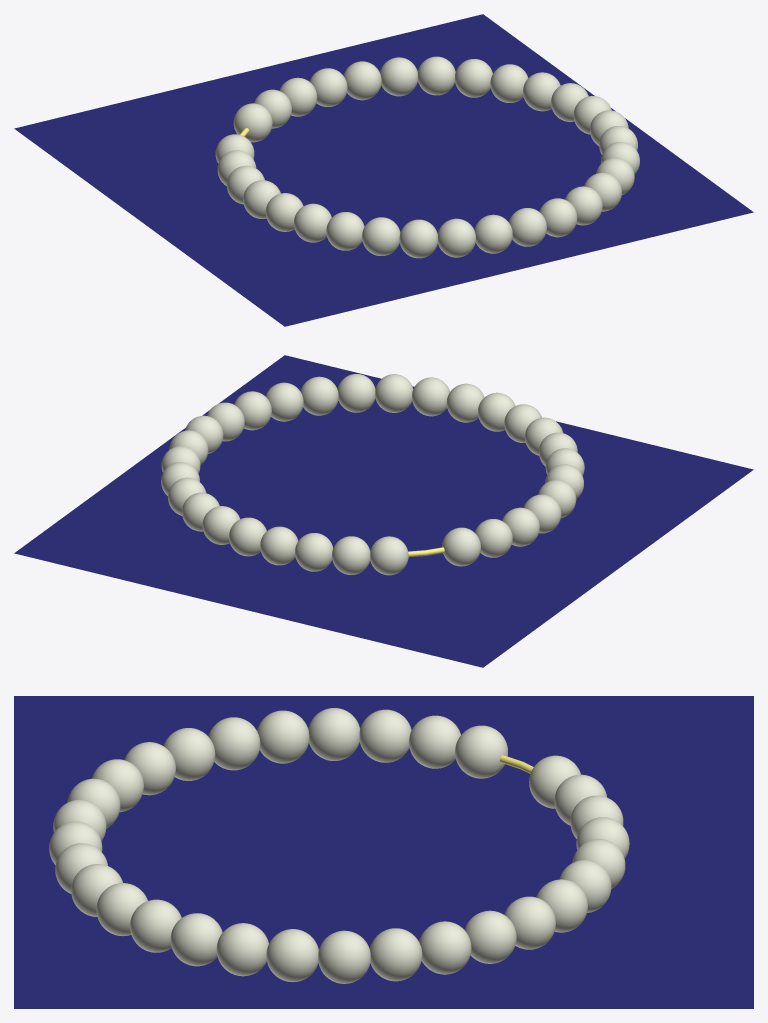
The model's file is colar.glb.
3 views of the same model, one above another, from view 1: azimuth 30°, elevation 25°; view 2: azimuth 150°, elevation 25°; view 3: azimuth 270°, elevation 25° (orthographic). The views are drawn at different scales.
Visible parts, largest first — view 1: Plane, Icosphere.018, Icosphere.019, Icosphere.017, Icosphere.002, Icosphere.020, Icosphere.003, Icosphere.016, Icosphere.001, Icosphere.004, Icosphere.021, Icosphere.032 (+20 smaller); view 2: Plane, Icosphere.008, Icosphere.007, Icosphere.010, Icosphere.024, Icosphere.006, Icosphere.023, Icosphere.025, Icosphere.005, Icosphere.022, Icosphere.026, Icosphere.011 (+20 smaller); view 3: Plane, Icosphere.029, Icosphere.028, Icosphere.030, Icosphere.013, Icosphere.012, Icosphere.027, Icosphere.031, Icosphere.010, Icosphere.014, Icosphere.026, Icosphere.011 (+20 smaller).
Part boxes in pixels (left/top/right/bottom): Plane: left=14, top=14, right=753, bottom=326; Icosphere.018: left=399, top=219, right=437, bottom=258; Icosphere.019: left=437, top=218, right=475, bottom=257; Icosphere.017: left=362, top=217, right=400, bottom=255; Icosphere.002: left=417, top=56, right=455, bottom=95; Icosphere.020: left=474, top=214, right=512, bottom=253; Icosphere.003: left=380, top=57, right=417, bottom=96; Icosphere.016: left=326, top=212, right=364, bottom=250; Icosphere.001: left=454, top=59, right=492, bottom=97; Icosphere.004: left=343, top=61, right=381, bottom=100; Icosphere.021: left=509, top=208, right=546, bottom=246; Icosphere.032: left=490, top=64, right=528, bottom=102; Plane: left=14, top=355, right=753, bottom=667; Icosphere.008: left=370, top=536, right=408, bottom=575; Icosphere.007: left=332, top=536, right=370, bottom=574; Icosphere.010: left=442, top=527, right=480, bottom=566; Icosphere.024: left=337, top=374, right=375, bottom=412; Icosphere.006: left=295, top=533, right=333, bottom=571; Icosphere.023: left=375, top=374, right=413, bottom=412; Icosphere.025: left=300, top=376, right=338, bottom=415; Icosphere.005: left=260, top=526, right=298, bottom=565; Icosphere.022: left=412, top=377, right=449, bottom=416; Icosphere.026: left=265, top=382, right=303, bottom=421; Icosphere.011: left=474, top=519, right=512, bottom=557; Plane: left=14, top=696, right=753, bottom=1008; Icosphere.029: left=318, top=930, right=370, bottom=983; Icosphere.028: left=266, top=929, right=318, bottom=981; Icosphere.030: left=370, top=928, right=422, bottom=981; Icosphere.013: left=308, top=708, right=359, bottom=760; Icosphere.012: left=359, top=709, right=411, bottom=762; Icosphere.027: left=216, top=923, right=268, bottom=976; Icosphere.031: left=419, top=921, right=471, bottom=974; Icosphere.010: left=455, top=725, right=507, bottom=778; Icosphere.014: left=257, top=710, right=309, bottom=763; Icosphere.026: left=170, top=913, right=222, bottom=966; Icosphere.011: left=409, top=715, right=460, bottom=768.
Bounding box in the file's own units: 6.74 × 0.4921 × 6.74.
